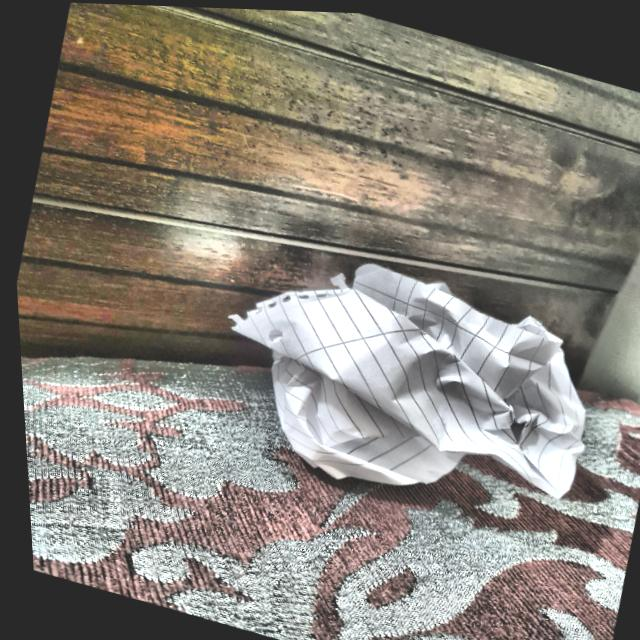Paper: (196, 221, 624, 546)
